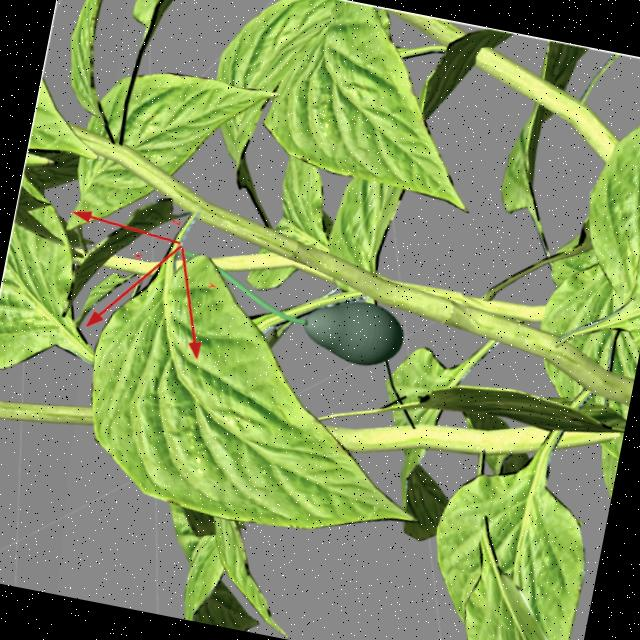fruit: (305, 299, 404, 365)
leaf: (92, 254, 418, 530)
peduncle: (215, 264, 310, 324)
